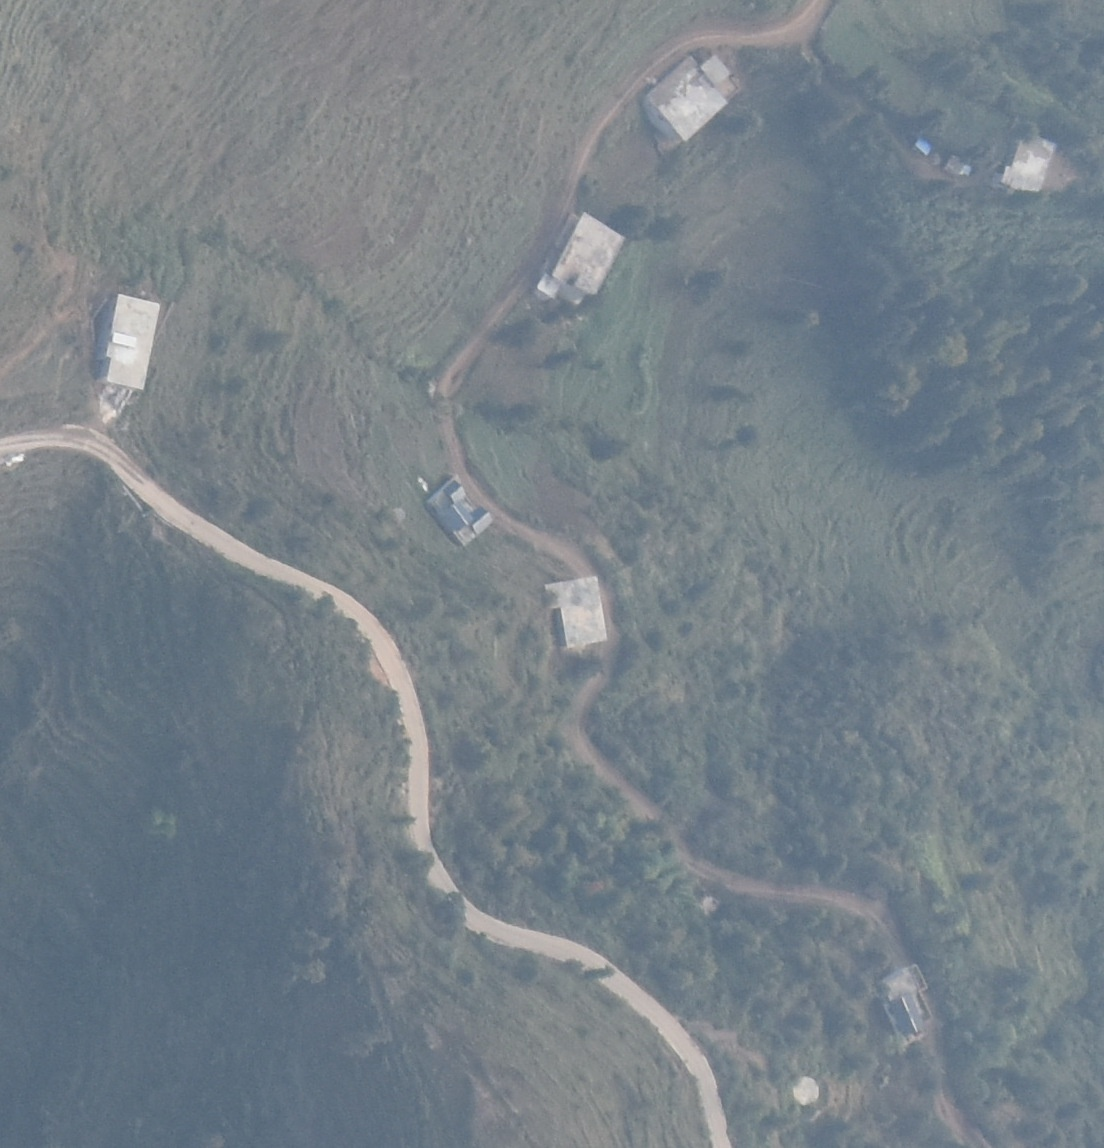building: (640, 53, 741, 141), (535, 208, 626, 305), (99, 294, 162, 389), (427, 476, 492, 548), (545, 577, 608, 647), (880, 965, 932, 1042), (1001, 128, 1056, 194), (943, 151, 975, 178), (914, 135, 937, 158)
well: (793, 1077, 821, 1105)
